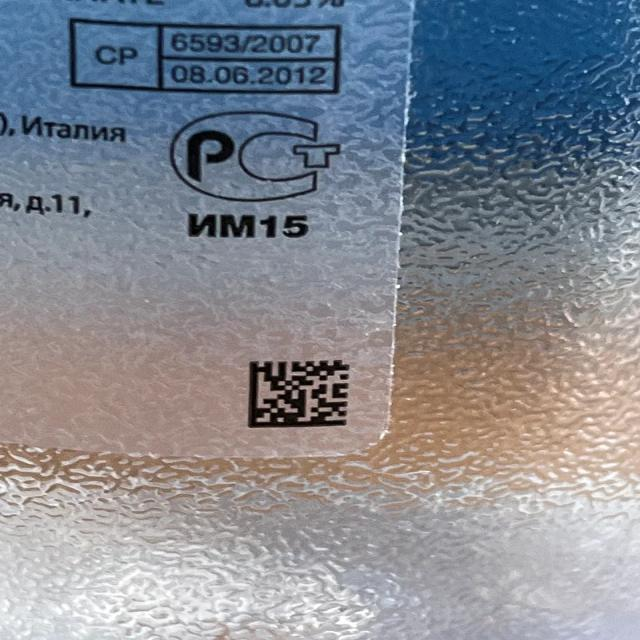datamatrix: (249, 359, 353, 430)
